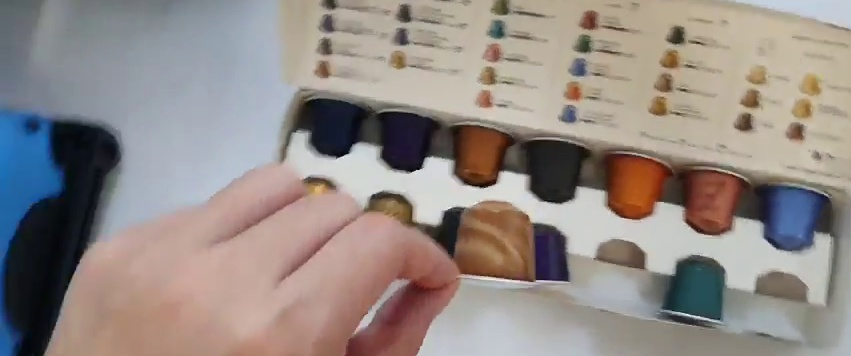capsule_12: (448, 199, 543, 292)
